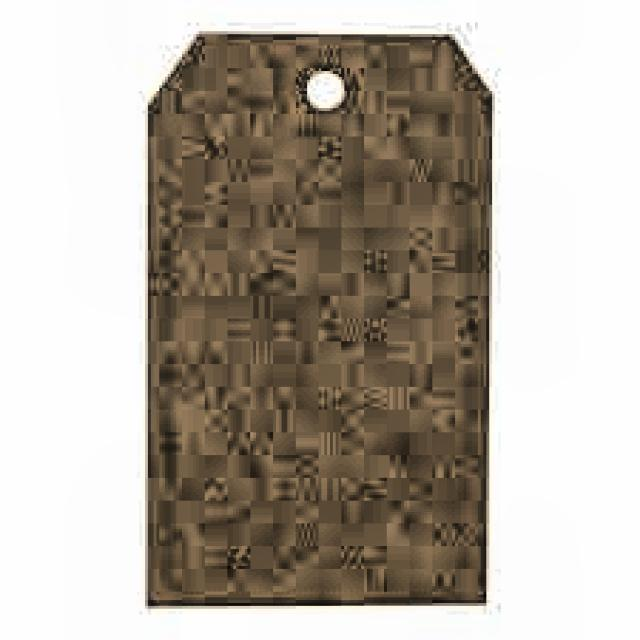cardboard: (141, 25, 488, 615)
